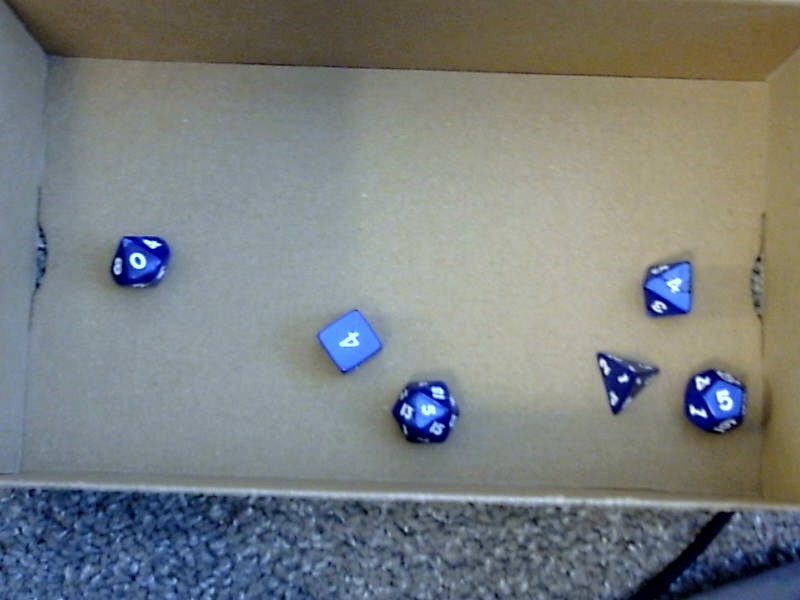d10 10: (108, 229, 169, 290)
d12 5: (683, 367, 749, 435)
d20 5: (392, 376, 459, 448)
d4 1: (591, 345, 660, 417)
d6 4: (312, 305, 383, 375)
d8 4: (636, 256, 695, 320)
